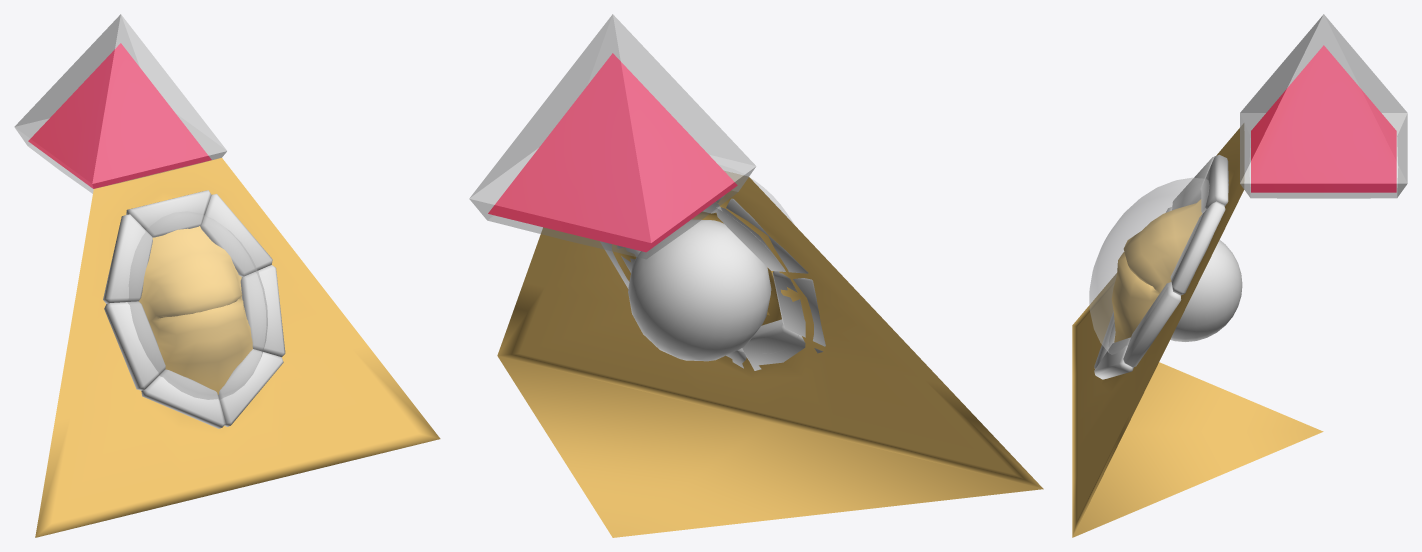
Rendered from Piramida2.fbx.
The picture shows the model from 3 angles, left to right: view 1: azimuth 30°, elevation 25°; view 2: azimuth 150°, elevation 25°; view 3: azimuth 270°, elevation 25°; orthographic projection. The views are drawn at different scales.
Visible parts, largest first — view 1: jedan deo piramide, sit oko oka, sit oko glave, Kristall, oko health.006, oko health.007, oko health.003, oko health.002, oko health.005, oko health.004, oko health.001; view 2: jedan deo piramide, sit oko glave, Kristall, jezivo oko, oko health.007, oko health.005, oko health.006; view 3: jedan deo piramide, sit oko glave, Kristall, sit oko oka, jezivo oko, oko health.002, oko health.003, oko health.001, oko health.004, oko health.007, oko health.005.
Boxes of the visible parts, box(x1,y1,x2,y2) form: jedan deo piramide: box(35, 157, 440, 537); sit oko oka: box(128, 211, 267, 399); sit oko glave: box(14, 14, 226, 193); Kristall: box(28, 43, 211, 188); oko health.006: box(104, 301, 165, 390); oko health.007: box(103, 214, 152, 303); oko health.003: box(240, 265, 285, 356); oko health.002: box(200, 194, 272, 276); oko health.005: box(141, 369, 225, 428); oko health.004: box(218, 349, 283, 426); oko health.001: box(126, 190, 211, 237); jedan deo piramide: box(497, 171, 1043, 537); sit oko glave: box(469, 14, 756, 259); Kristall: box(488, 53, 737, 252); jezivo oko: box(628, 219, 771, 361); oko health.007: box(716, 198, 808, 273); oko health.005: box(742, 319, 822, 370); oko health.006: box(772, 271, 825, 346); jedan deo piramide: box(1072, 124, 1323, 537); sit oko glave: box(1240, 14, 1407, 198); Kristall: box(1251, 45, 1396, 192); sit oko oka: box(1089, 177, 1209, 354); jezivo oko: box(1170, 240, 1242, 341); oko health.002: box(1170, 201, 1225, 295); oko health.003: box(1123, 282, 1181, 367); oko health.001: box(1201, 154, 1228, 213); oko health.004: box(1094, 337, 1133, 379); oko health.007: box(1172, 156, 1214, 210); oko health.005: box(1094, 311, 1115, 368).
Bounding box in the file's own units: 424 × 389 × 283.
